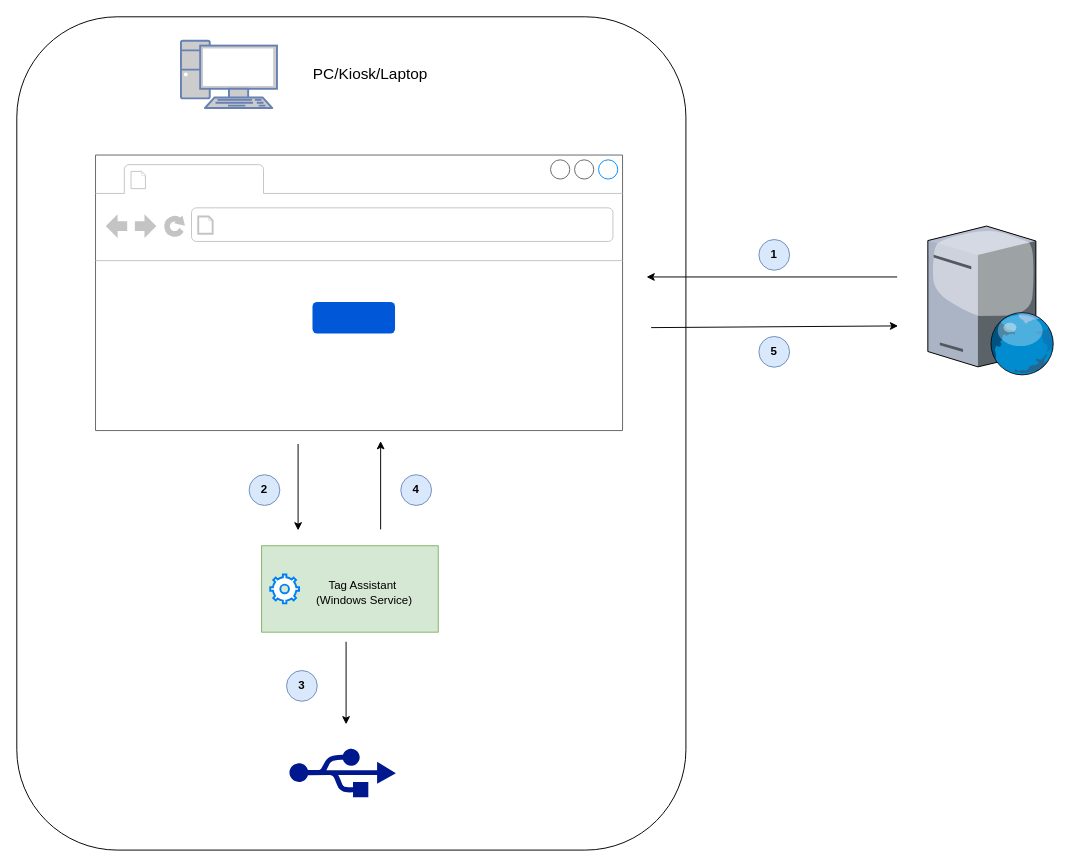
Some shapes in this 1071 by 867 pixel diagram are drawn without their labels. The box of each missing label's shape, as (x1, y1, x2, y2) in pixels:
https://tag-assistant.logicality.io: (219, 212, 460, 238)
Page 1: (152, 166, 259, 192)
Read Tag: (312, 301, 395, 333)
